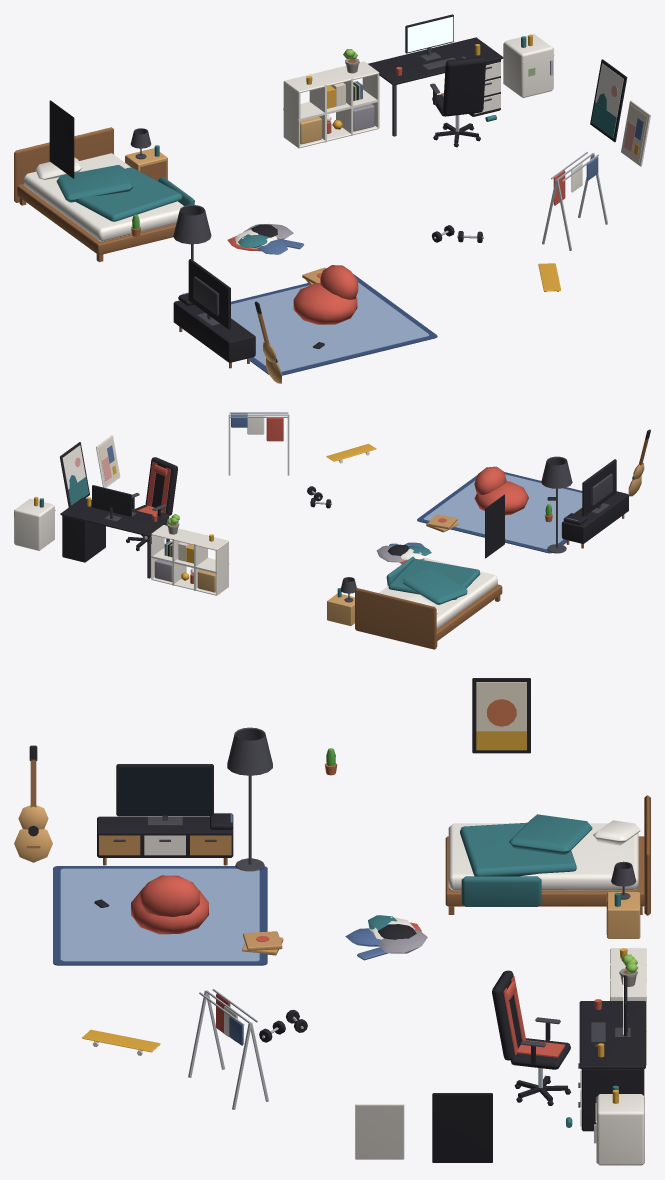
File: einrichtung_freies_zimmer_bewohnt.glb
3 views of the same model, one above another, from view 1: azimuth 30°, elevation 25°; view 2: azimuth 150°, elevation 25°; view 3: azimuth 270°, elevation 25° (orthographic). The views are drawn at different scales.
Parts seen in each view (by area): view 1: einrichtung_freies_zimmer_bewohnt; view 2: einrichtung_freies_zimmer_bewohnt; view 3: einrichtung_freies_zimmer_bewohnt.
Part boxes in pixels (x1,y1,x2,y2): einrichtung_freies_zimmer_bewohnt: (14, 14, 650, 383); einrichtung_freies_zimmer_bewohnt: (14, 412, 650, 649); einrichtung_freies_zimmer_bewohnt: (14, 678, 650, 1165).
Size of the model in its own units: 7.77 by 1.98 by 6.53.
